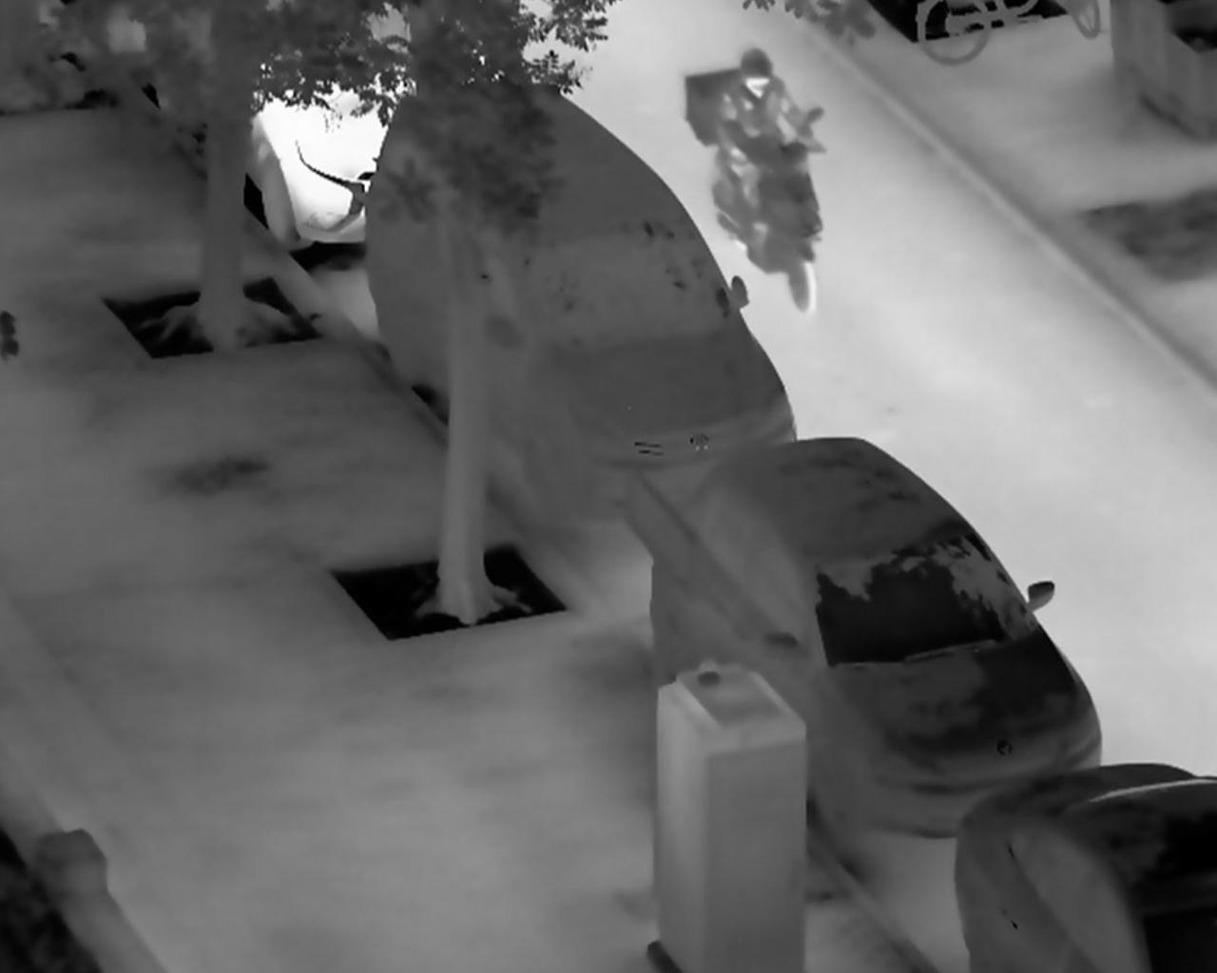person: (714, 45, 832, 235)
